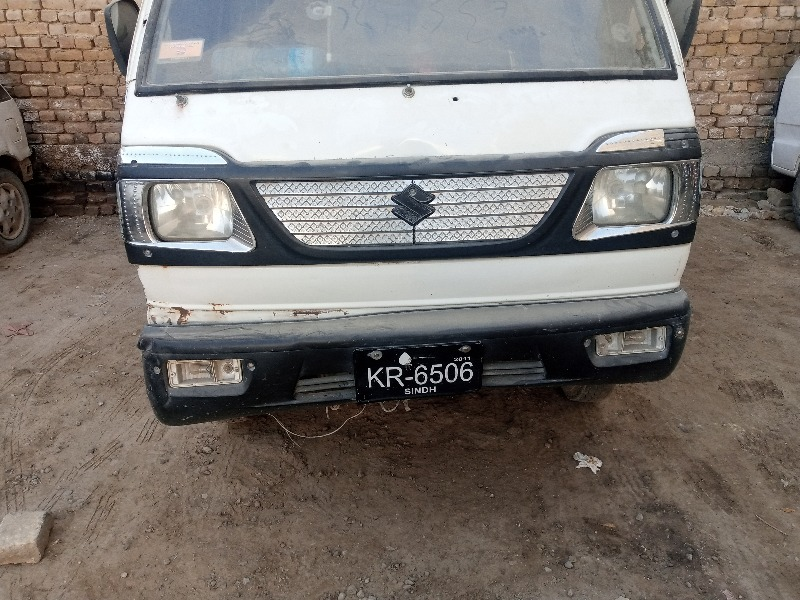License Plate: (351, 340, 493, 402)
